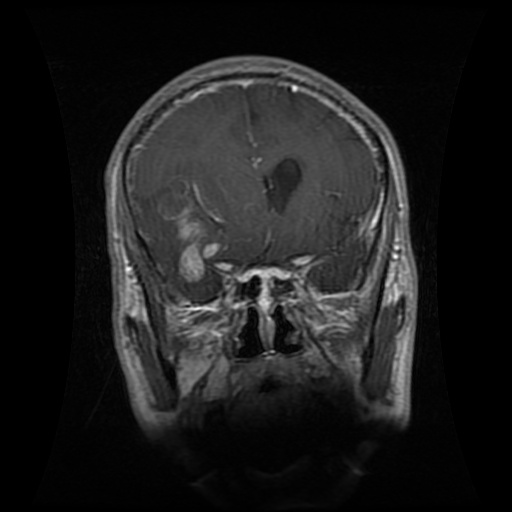glioma: (154, 176, 227, 283)
